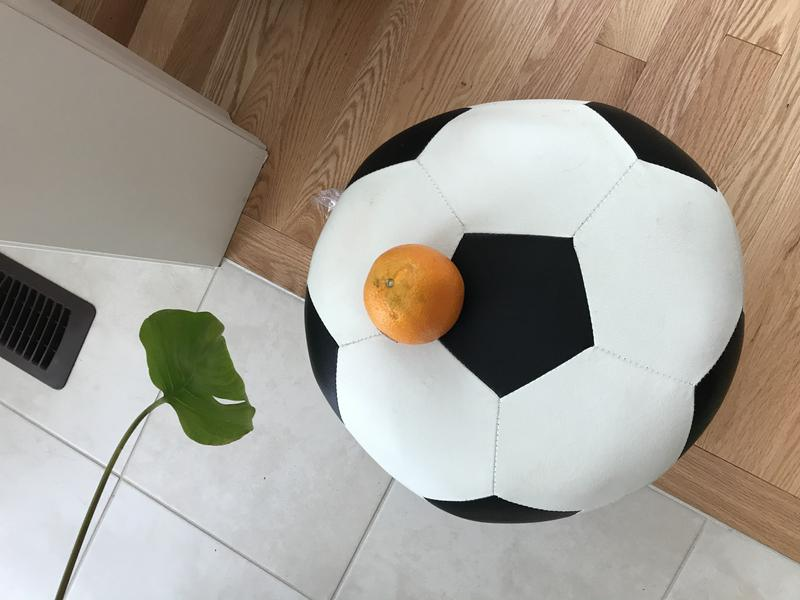orange: (357, 241, 471, 349)
